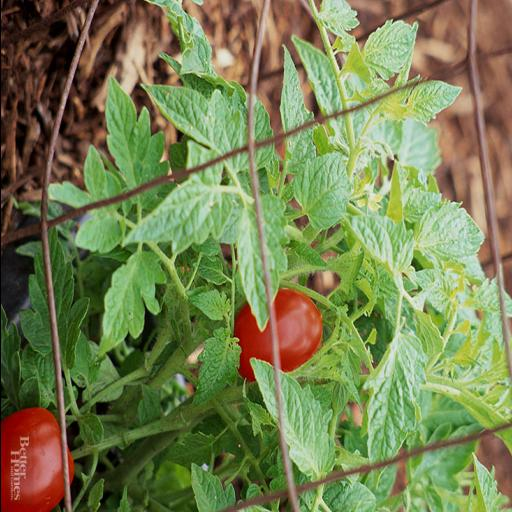Healthy: (252, 360, 340, 494), (139, 78, 247, 187), (128, 159, 238, 259), (358, 328, 422, 464), (92, 238, 162, 350), (102, 72, 168, 190), (289, 151, 355, 223), (190, 322, 242, 410)
